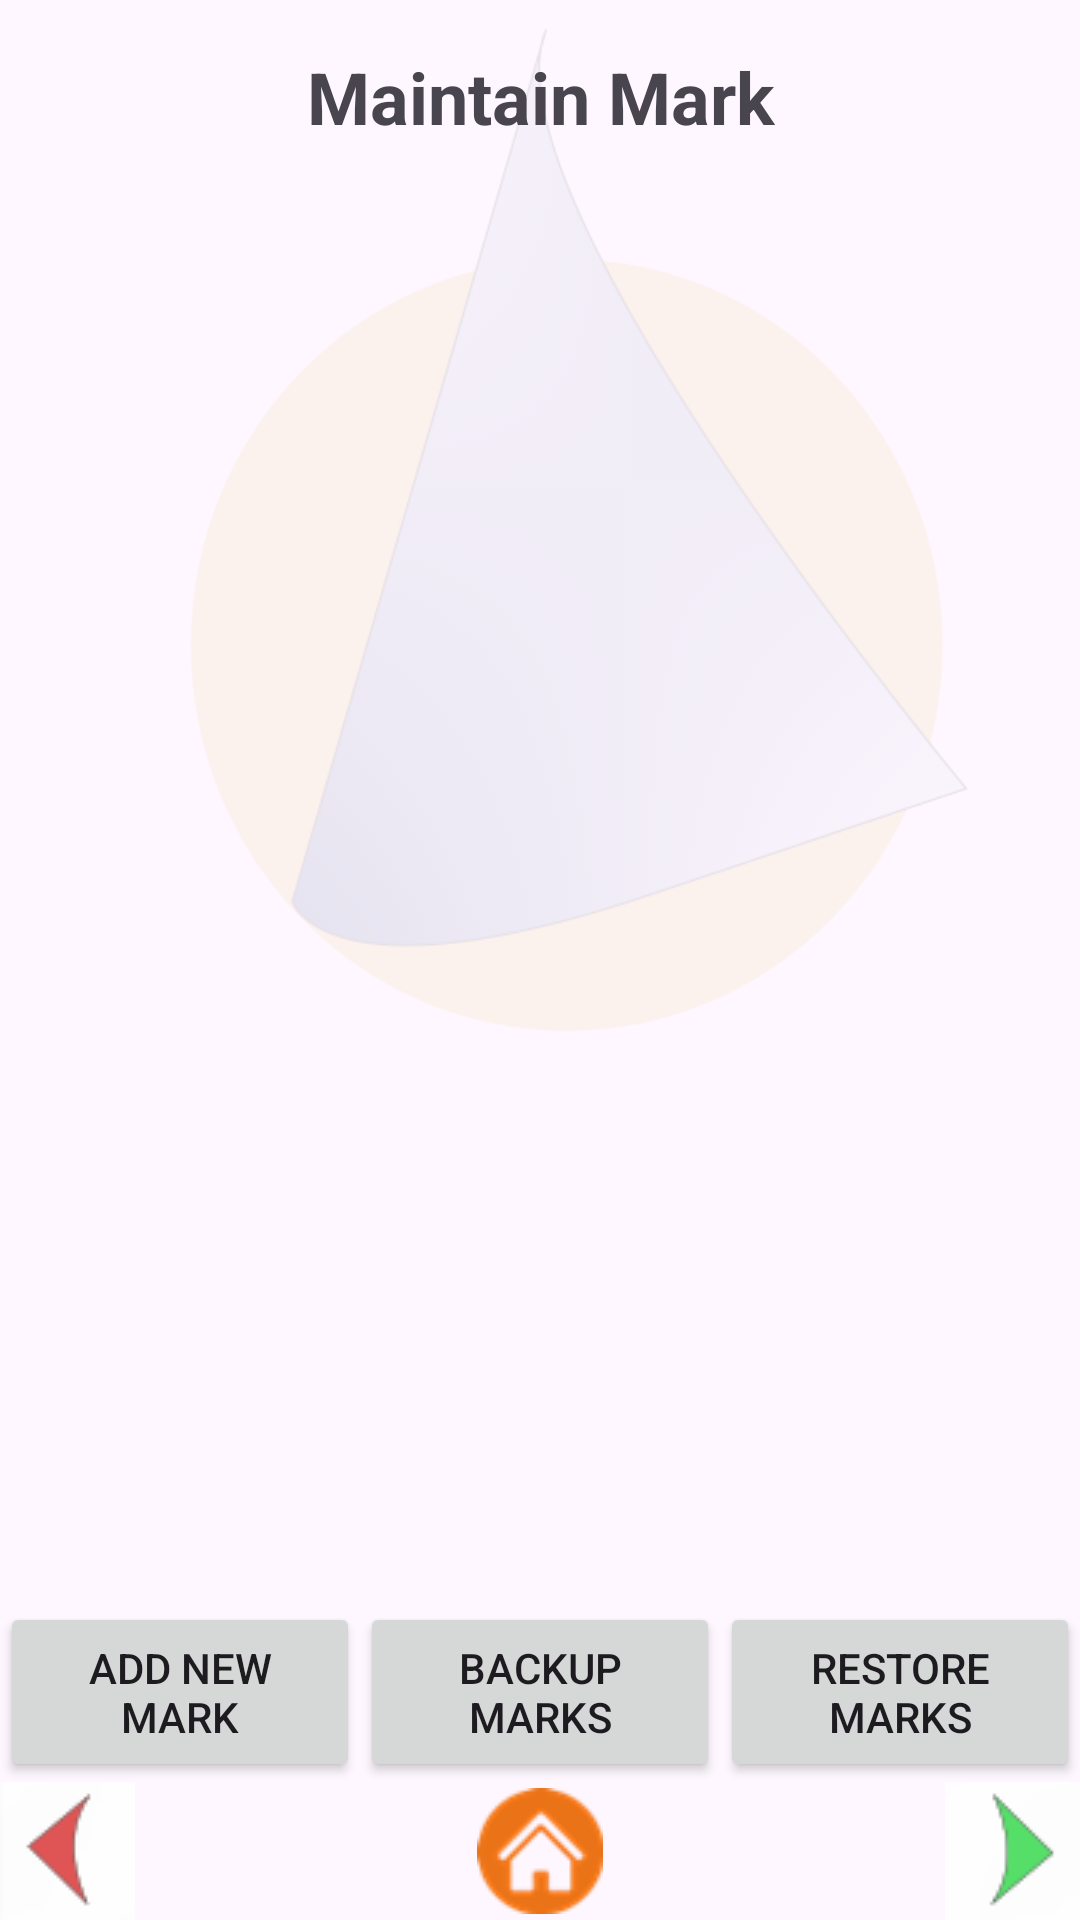

Where icons sit on this 1080x1920 app screen, as (x1, y1, x2, y2):
Home: (477, 1788, 603, 1914)
Left Nav: (26, 1793, 91, 1905)
Right Nav: (990, 1793, 1054, 1905)
